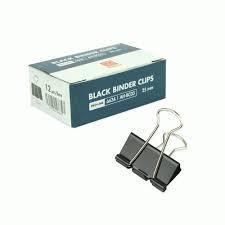box: (27, 43, 166, 129)
